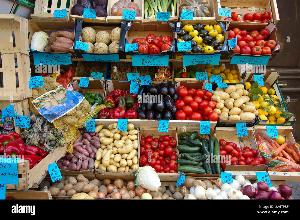bell_pepper: (104, 82, 138, 116), (77, 82, 102, 112)
eggplant: (140, 80, 178, 120)
lemon: (251, 84, 292, 124), (208, 66, 236, 84)
tomato: (178, 77, 218, 122), (218, 129, 260, 169), (140, 126, 176, 172), (228, 23, 280, 53), (125, 28, 175, 56), (220, 0, 276, 22)
